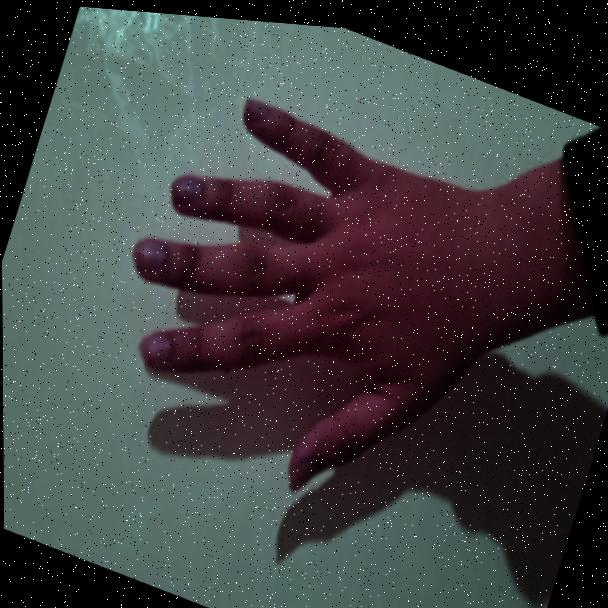five: (72, 46, 523, 542)
